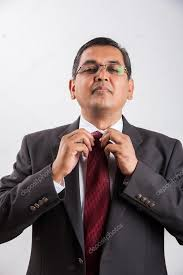Indian_Male: (76, 40, 128, 113)
